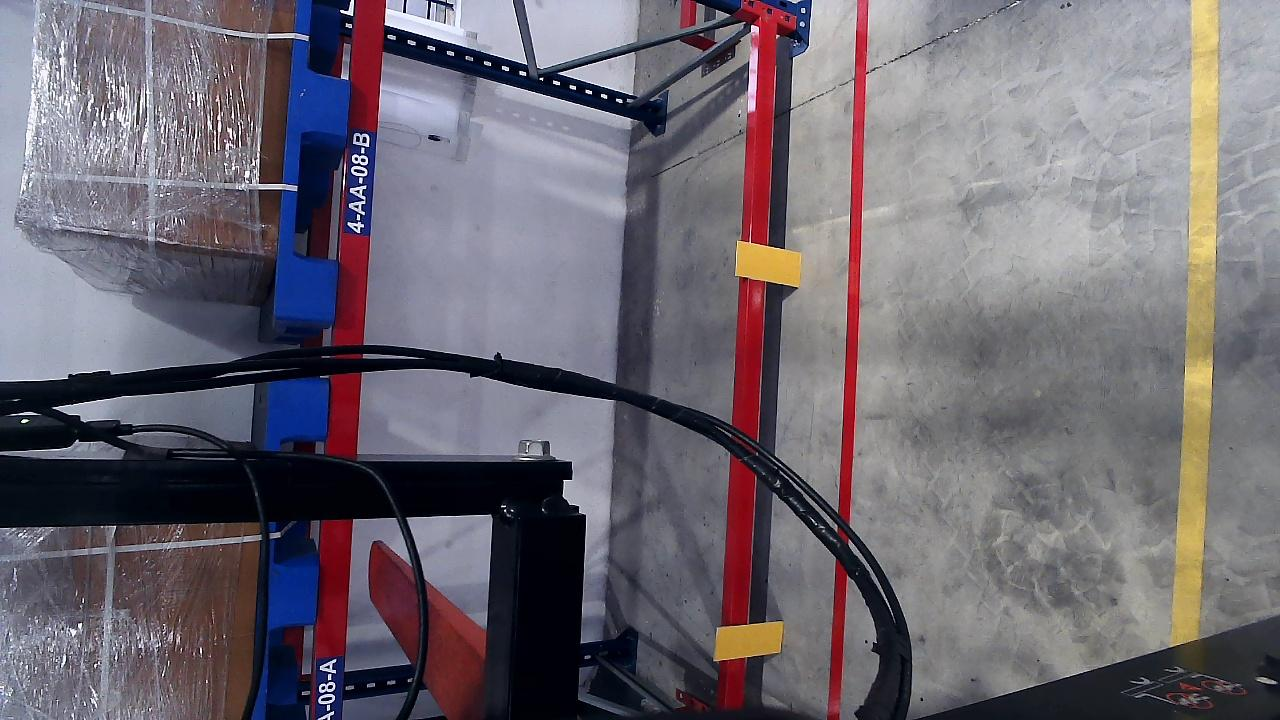h_rack: (717, 32, 774, 717), (331, 1, 389, 338), (312, 437, 359, 719)
orange_strip: (735, 241, 801, 287), (715, 621, 784, 661)
red_line: (833, 7, 868, 619)
small_pallet: (268, 1, 362, 322)
yellow_line: (1172, 62, 1221, 648)
